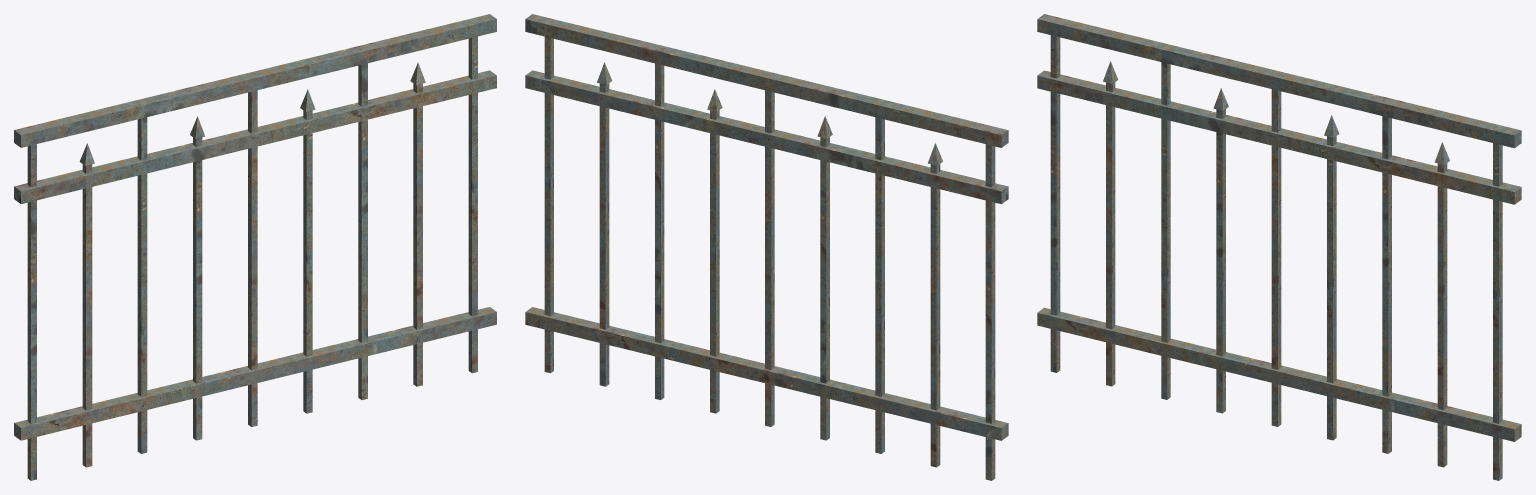
The model's file is fence22.FBX.
3 renders of one model, left to right at view 1: azimuth 30°, elevation 25°; view 2: azimuth 150°, elevation 25°; view 3: azimuth 330°, elevation 25°, orthographic.
Parts seen in each view (by area): view 1: metal_fence_small_mid_rail_spear; view 2: metal_fence_small_mid_rail_spear; view 3: metal_fence_small_mid_rail_spear.
Part boxes in pixels (x1,y1,x2,y2): metal_fence_small_mid_rail_spear: (14,14,496,480); metal_fence_small_mid_rail_spear: (525,14,1008,480); metal_fence_small_mid_rail_spear: (1037,14,1521,480).
Size of the model in its own units: 247 by 173 by 6.31.
